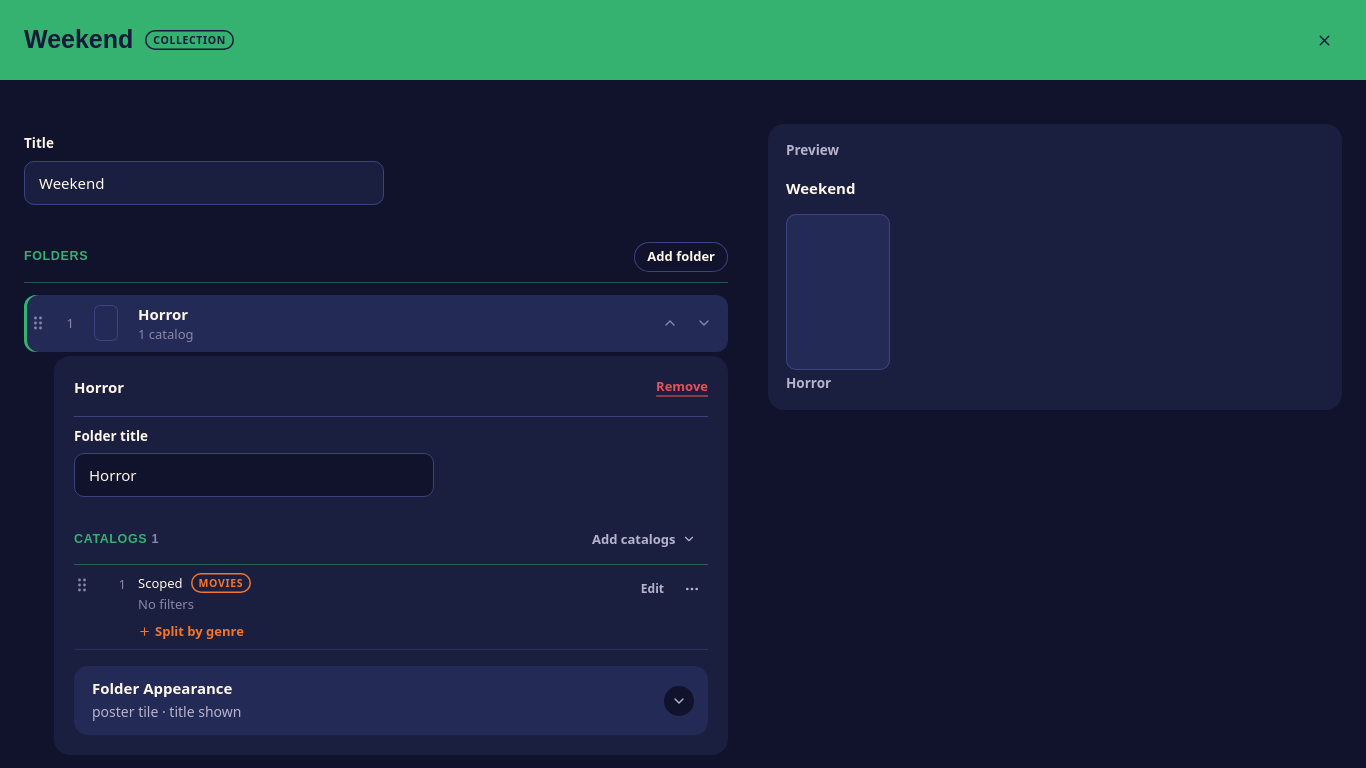
Test: CollectionEditor › Unlink from library › is not offered for a catalog that already lives in this collection
This screenshot has width=1366, height=768.
Press the mouse on the button named "More for Scoped" at (692, 589), box 676,573 -> 708,605
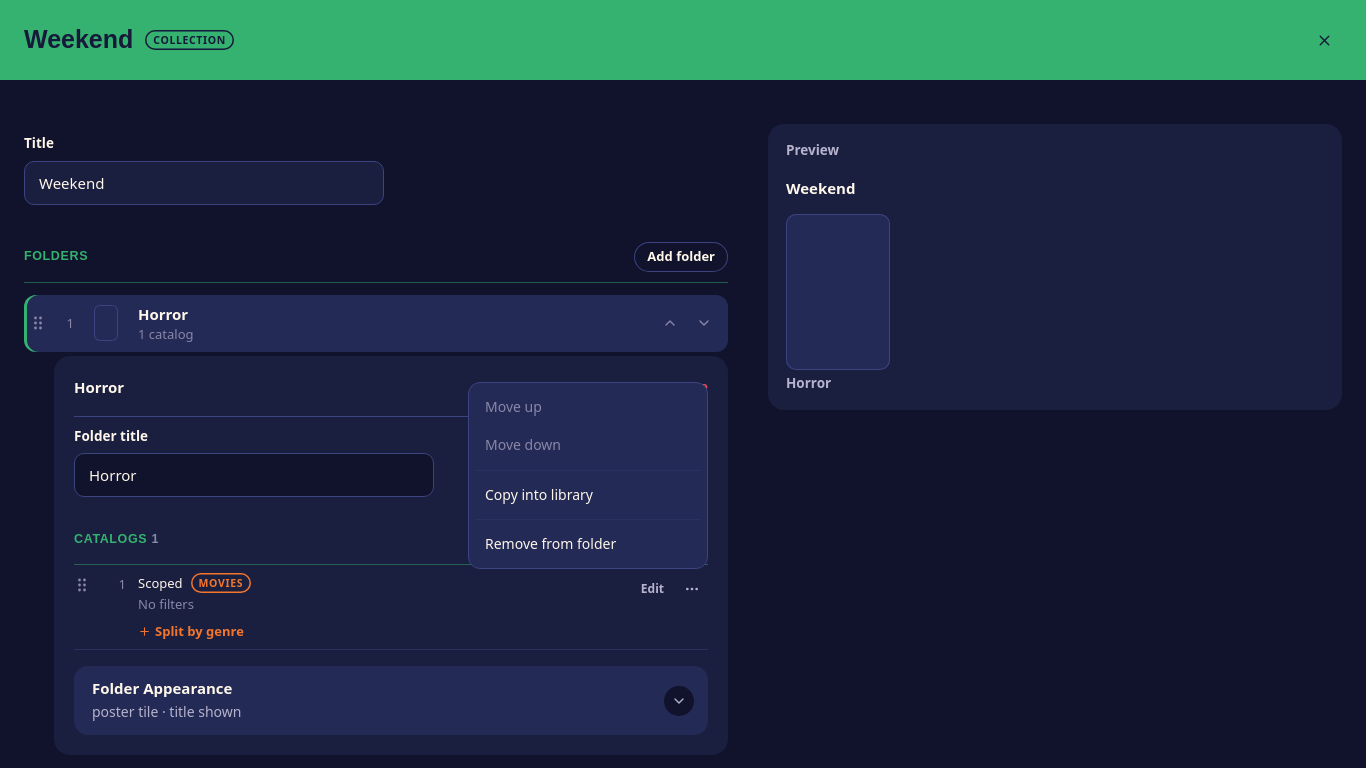
Now the menu item "Copy into library" is shown, box 485,485 -> 593,504
